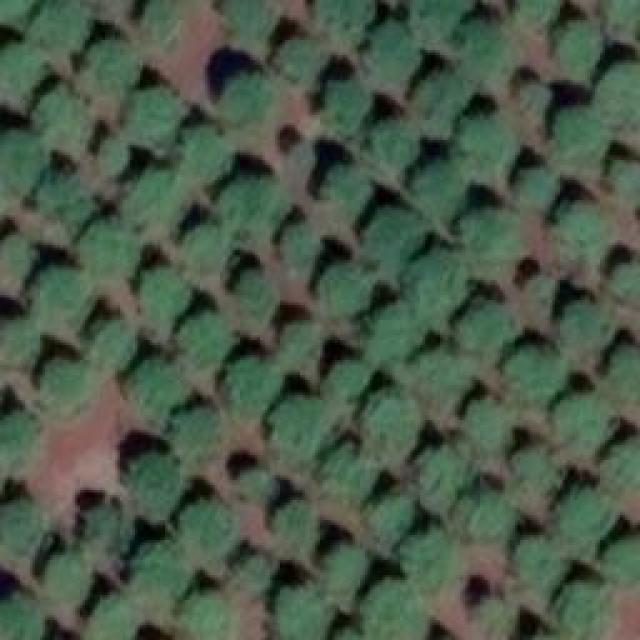Tree: (178, 495, 241, 565), (30, 270, 95, 333), (220, 358, 283, 423), (363, 205, 426, 270), (213, 180, 283, 238), (125, 455, 185, 518), (268, 400, 328, 463), (367, 577, 427, 640), (555, 478, 618, 538), (358, 27, 421, 85), (125, 545, 188, 603), (368, 387, 421, 455), (125, 88, 185, 148), (408, 260, 468, 320), (318, 445, 378, 505), (557, 577, 614, 640), (130, 170, 185, 235), (460, 15, 515, 80), (455, 298, 520, 353), (82, 35, 140, 95), (177, 125, 235, 185), (360, 127, 420, 185), (313, 260, 373, 318), (460, 207, 520, 265), (455, 488, 518, 543), (558, 195, 613, 258), (505, 345, 568, 400), (550, 390, 618, 440), (560, 295, 618, 353), (38, 90, 91, 153), (215, 80, 278, 133), (405, 525, 458, 588), (33, 178, 93, 233), (405, 75, 465, 130), (413, 345, 468, 403), (128, 360, 181, 420), (415, 440, 468, 500), (270, 590, 333, 640), (553, 17, 606, 75), (550, 117, 603, 175), (365, 485, 418, 543), (35, 0, 90, 55), (515, 535, 570, 590), (455, 113, 513, 163), (365, 315, 423, 365), (83, 228, 136, 281), (0, 500, 48, 558), (140, 268, 190, 323), (415, 163, 470, 213), (175, 590, 230, 640), (270, 500, 320, 555), (597, 69, 640, 132), (0, 133, 45, 193), (178, 405, 228, 458), (0, 44, 42, 107), (180, 315, 228, 370), (85, 318, 133, 371), (40, 360, 88, 413), (275, 320, 325, 370), (323, 80, 368, 135), (463, 400, 518, 445), (318, 177, 368, 225), (45, 555, 93, 605), (320, 545, 370, 593), (510, 450, 570, 490), (0, 235, 38, 298), (315, 363, 368, 406), (513, 168, 558, 218), (407, 0, 460, 42), (0, 592, 45, 640), (232, 550, 280, 595), (82, 597, 132, 640), (273, 43, 326, 83), (0, 410, 40, 463), (280, 223, 318, 278), (80, 508, 118, 558), (235, 275, 273, 323), (315, 0, 370, 32), (607, 344, 640, 397), (183, 233, 226, 273), (470, 593, 510, 636), (0, 320, 38, 365), (137, 0, 177, 42), (605, 162, 640, 210), (607, 530, 640, 580), (610, 435, 640, 488), (605, 0, 640, 45), (512, 78, 550, 118), (222, 0, 269, 32), (95, 137, 133, 175), (610, 253, 640, 296), (517, 0, 565, 25), (232, 470, 270, 500), (288, 145, 313, 175), (528, 273, 551, 296)
